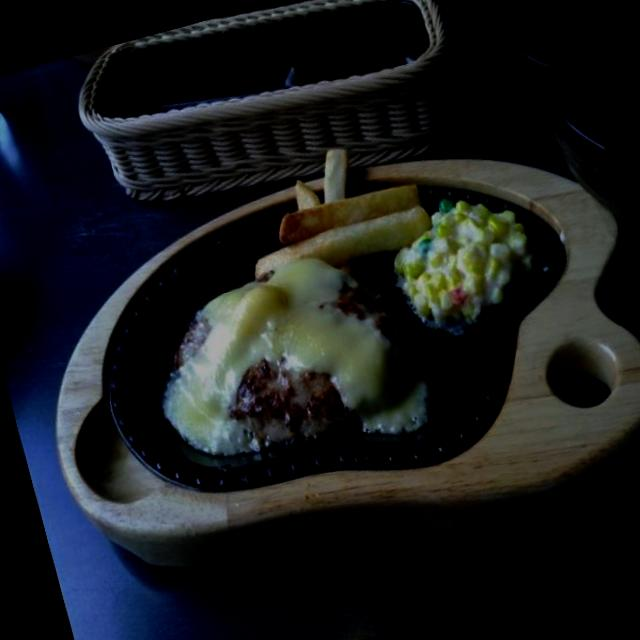French Fries: (270, 144, 426, 264)
